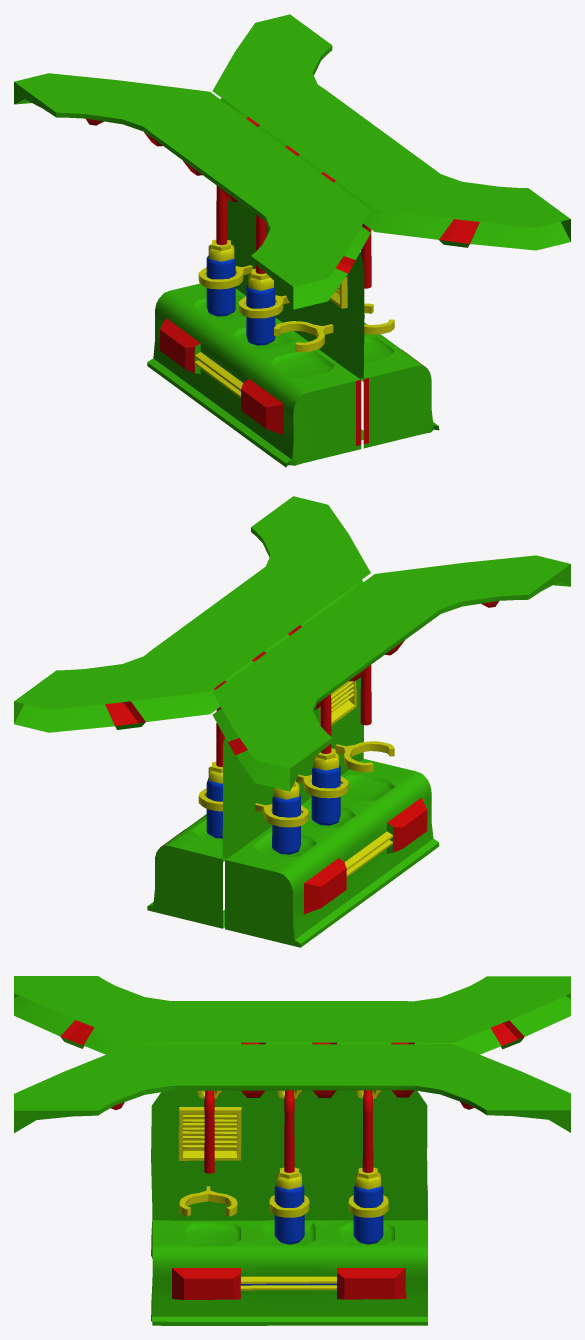
File: Fuel loading wall.fbx
3 views of the same model, one above another, from view 1: azimuth 30°, elevation 25°; view 2: azimuth 150°, elevation 25°; view 3: azimuth 270°, elevation 25° (orthographic).
Parts seen in each view (by area): view 1: polySurface52; view 2: polySurface52; view 3: polySurface52.
Boxes of the visible parts, x1,y1,x2,y2 form: polySurface52: (14,14,570,467); polySurface52: (14,496,570,947); polySurface52: (14,976,570,1325).
Size of the model in its own units: 405 by 344 by 708.
